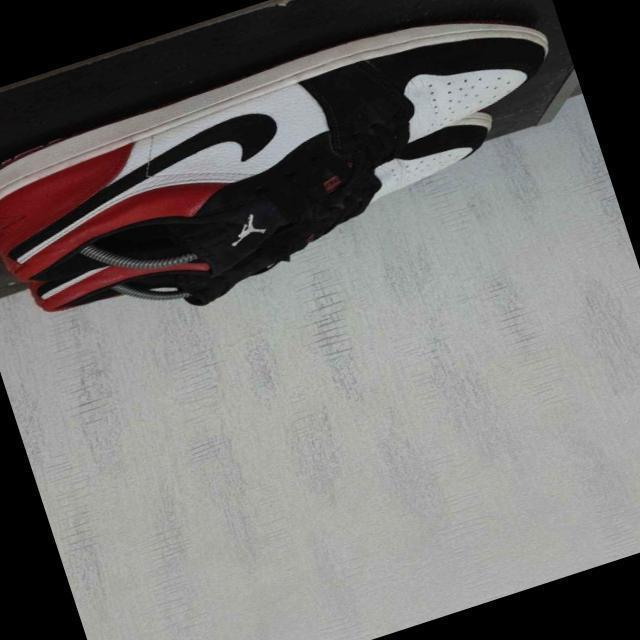nike fake jordan 1: (0, 0, 588, 340)
